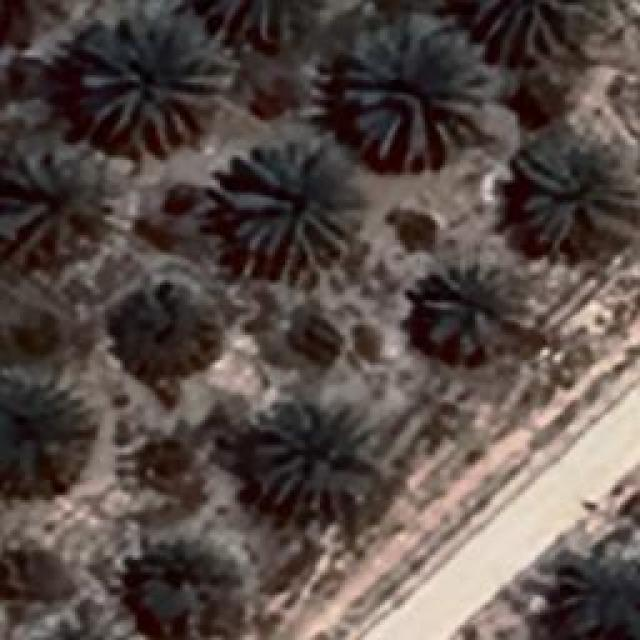PalmTree: (72, 10, 230, 155), (340, 20, 490, 170), (217, 135, 365, 280), (512, 125, 638, 250), (120, 528, 258, 638), (106, 262, 226, 386), (247, 398, 375, 512), (0, 142, 118, 255), (1, 365, 99, 500), (414, 260, 528, 355), (541, 535, 639, 640), (447, 1, 575, 69), (197, 0, 325, 55), (0, 539, 63, 610), (0, 0, 69, 53)
